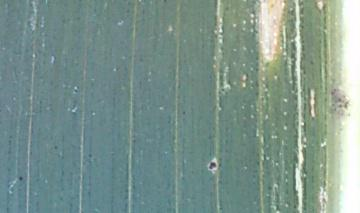tarspot: (207, 160, 217, 171), (72, 88, 79, 94), (17, 176, 24, 181), (181, 109, 186, 116), (53, 144, 58, 151), (86, 153, 93, 158)
